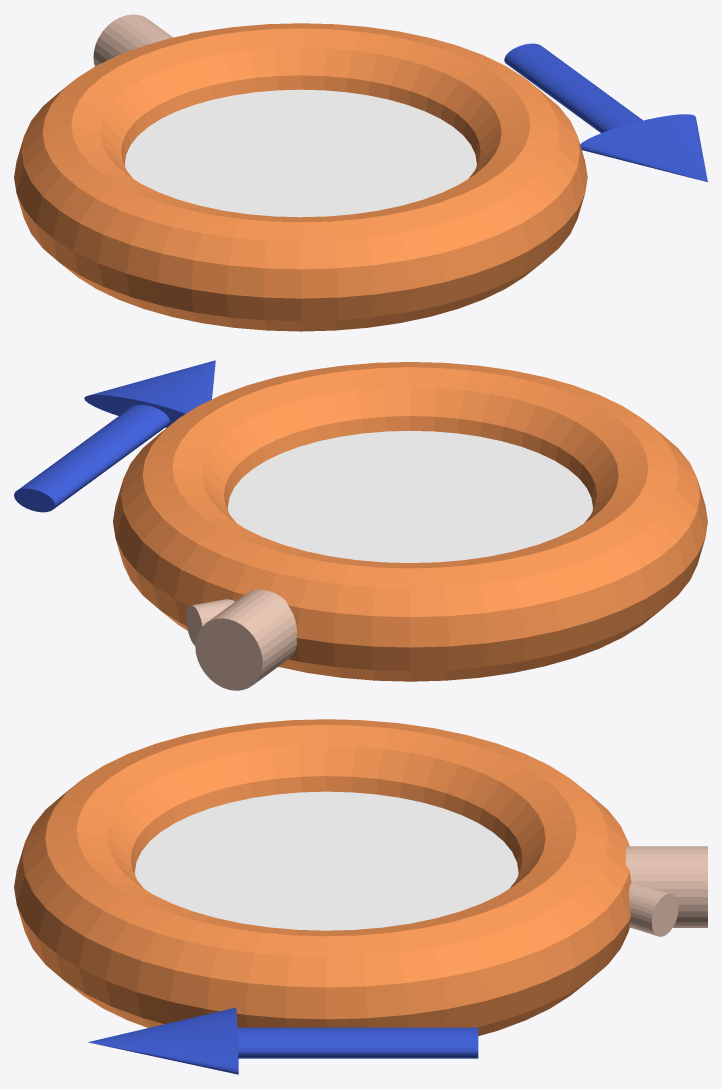
File: TimeRetract.fbx
3 renders of one model, top to bottom at view 1: azimuth 30°, elevation 25°; view 2: azimuth 150°, elevation 25°; view 3: azimuth 270°, elevation 25°, orthographic. The views are drawn at different scales.
Visible parts, largest first — view 1: TimeRetract; view 2: TimeRetract; view 3: TimeRetract.
Boxes of the visible parts, left/top/right/bottom form: TimeRetract: left=14, top=14, right=707, bottom=331; TimeRetract: left=14, top=360, right=707, bottom=690; TimeRetract: left=14, top=719, right=707, bottom=1074.
Size of the model in its own units: 3.04 by 0.5 by 2.77.
